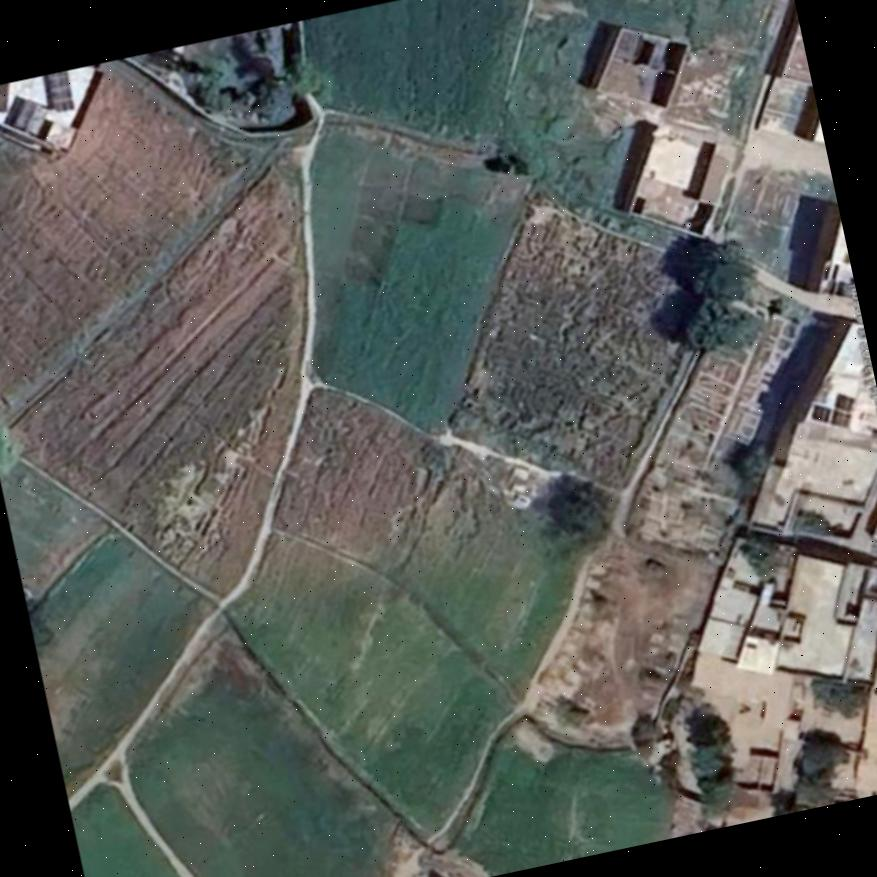Solarpanel: (48, 72, 72, 110)
